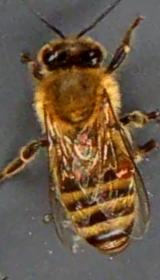varroa_mite: (112, 155, 137, 182)
